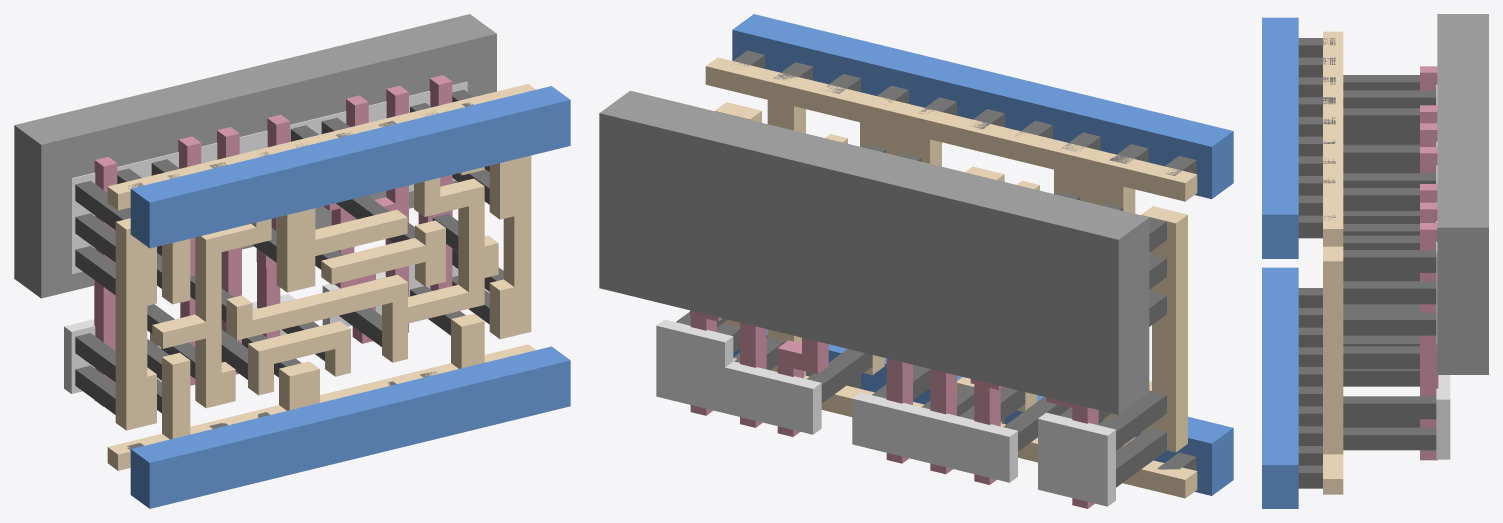
The model's file is sky130_fd_sc_hd__ha_1.gds.gltf.
3 renders of one model, left to right at view 1: azimuth 30°, elevation 25°; view 2: azimuth 150°, elevation 25°; view 3: azimuth 270°, elevation 25°, orthographic. The views are drawn at different scales.
Parts seen in each view (by area): view 1: sky130_fd_sc_hd__ha_1_li1, sky130_fd_sc_hd__ha_1_met1, sky130_fd_sc_hd__ha_1_nwell, sky130_fd_sc_hd__ha_1_licon, sky130_fd_sc_hd__ha_1_poly, sky130_fd_sc_hd__ha_1_diff, sky130_fd_sc_hd__ha_1_mcon; view 2: sky130_fd_sc_hd__ha_1_nwell, sky130_fd_sc_hd__ha_1_li1, sky130_fd_sc_hd__ha_1_met1, sky130_fd_sc_hd__ha_1_diff, sky130_fd_sc_hd__ha_1_licon, sky130_fd_sc_hd__ha_1_poly, sky130_fd_sc_hd__ha_1_mcon; view 3: sky130_fd_sc_hd__ha_1_licon, sky130_fd_sc_hd__ha_1_nwell, sky130_fd_sc_hd__ha_1_met1, sky130_fd_sc_hd__ha_1_mcon, sky130_fd_sc_hd__ha_1_li1, sky130_fd_sc_hd__ha_1_poly, sky130_fd_sc_hd__ha_1_diff.
Boxes of the visible parts, x1,y1,x2,y2 form: sky130_fd_sc_hd__ha_1_li1: (107, 84, 535, 470); sky130_fd_sc_hd__ha_1_met1: (130, 86, 570, 508); sky130_fd_sc_hd__ha_1_nwell: (14, 14, 496, 298); sky130_fd_sc_hd__ha_1_licon: (75, 89, 503, 414); sky130_fd_sc_hd__ha_1_poly: (94, 75, 452, 406); sky130_fd_sc_hd__ha_1_diff: (64, 81, 467, 393); sky130_fd_sc_hd__ha_1_mcon: (127, 102, 473, 450); sky130_fd_sc_hd__ha_1_nwell: (599, 90, 1149, 414); sky130_fd_sc_hd__ha_1_li1: (705, 57, 1197, 498); sky130_fd_sc_hd__ha_1_met1: (732, 14, 1233, 495); sky130_fd_sc_hd__ha_1_diff: (656, 319, 1115, 506); sky130_fd_sc_hd__ha_1_licon: (676, 113, 1166, 487); sky130_fd_sc_hd__ha_1_poly: (690, 310, 1098, 508); sky130_fd_sc_hd__ha_1_mcon: (733, 50, 1196, 470); sky130_fd_sc_hd__ha_1_licon: (1343, 75, 1436, 450); sky130_fd_sc_hd__ha_1_nwell: (1437, 14, 1488, 374); sky130_fd_sc_hd__ha_1_met1: (1262, 17, 1298, 508); sky130_fd_sc_hd__ha_1_mcon: (1298, 38, 1335, 488); sky130_fd_sc_hd__ha_1_li1: (1323, 31, 1343, 494); sky130_fd_sc_hd__ha_1_poly: (1420, 66, 1438, 460); sky130_fd_sc_hd__ha_1_diff: (1436, 84, 1450, 459).
Size of the model in its own units: 4.98 by 3.2 by 2.24.
